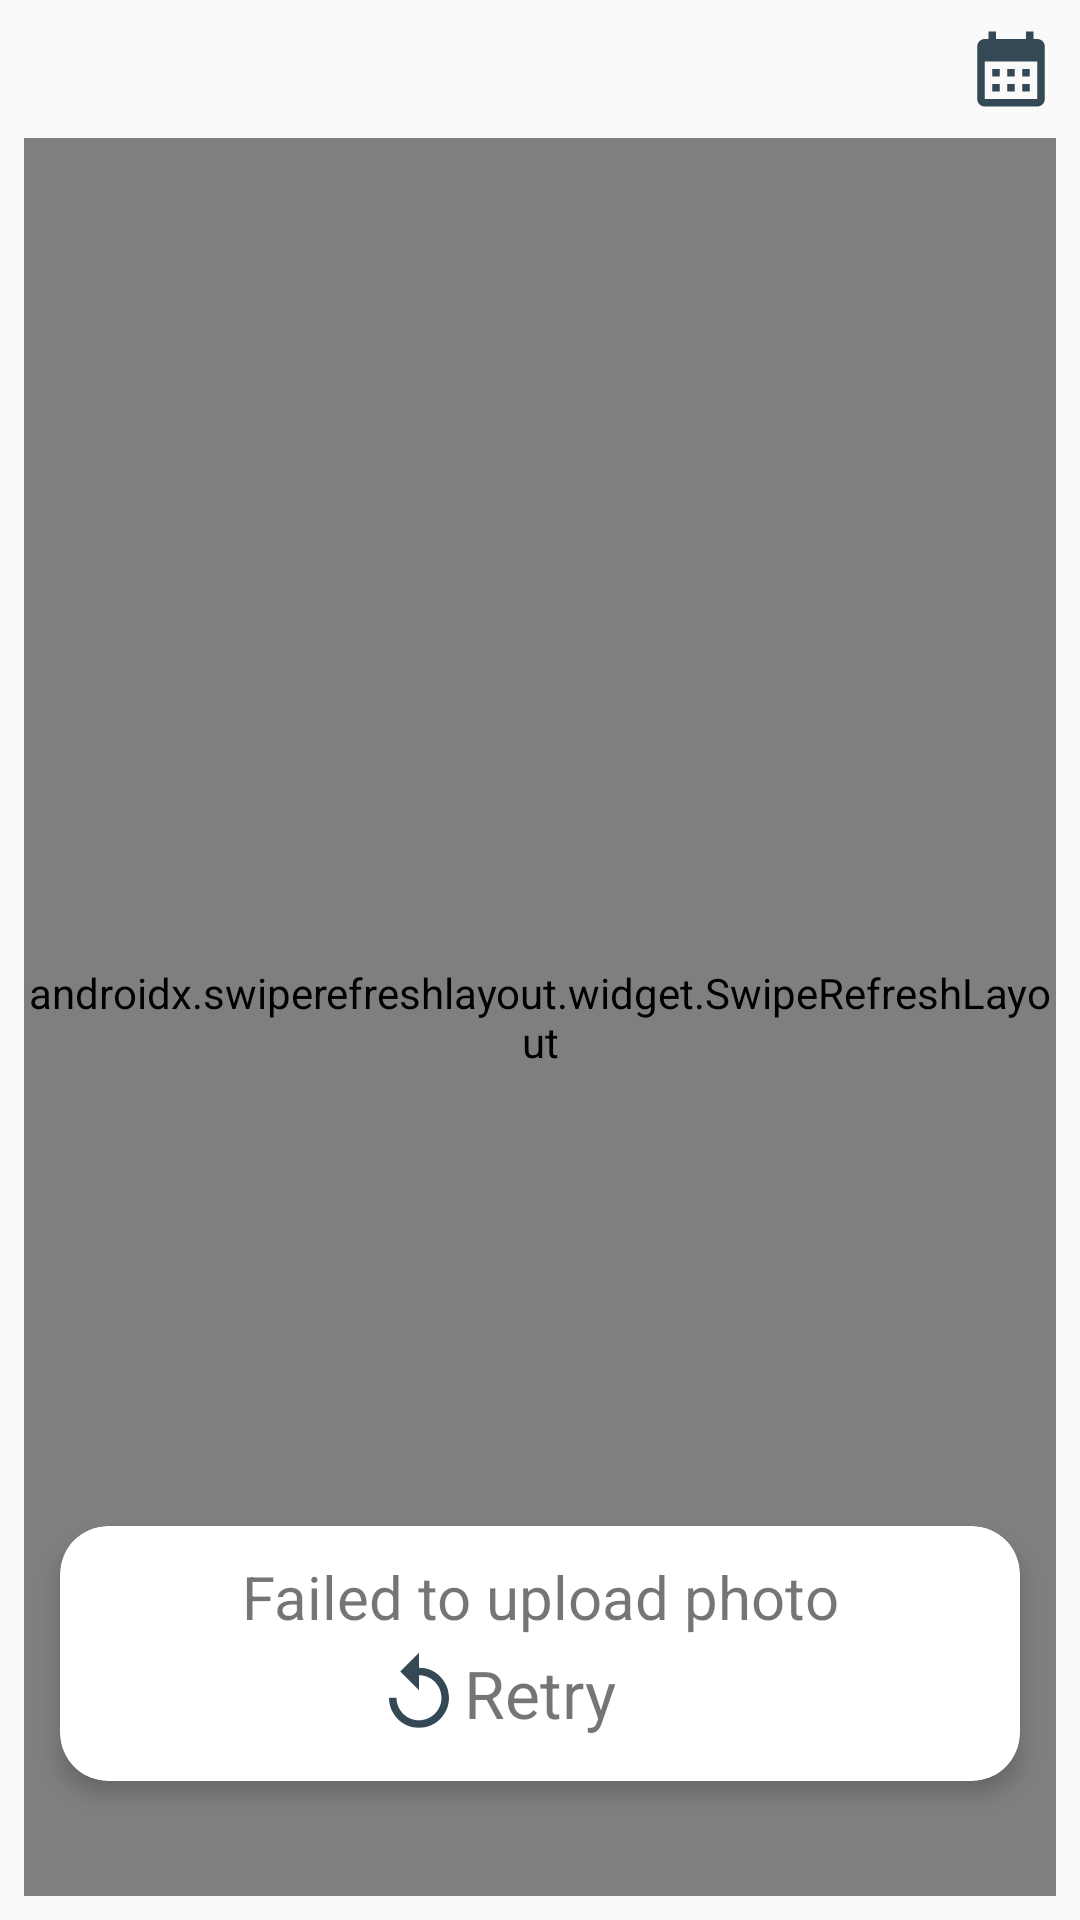

Icon click points for this 1080x1920 phone screenshot, format (x,y):
calendar: (1011,69)
replay arrow: (419,1690)
